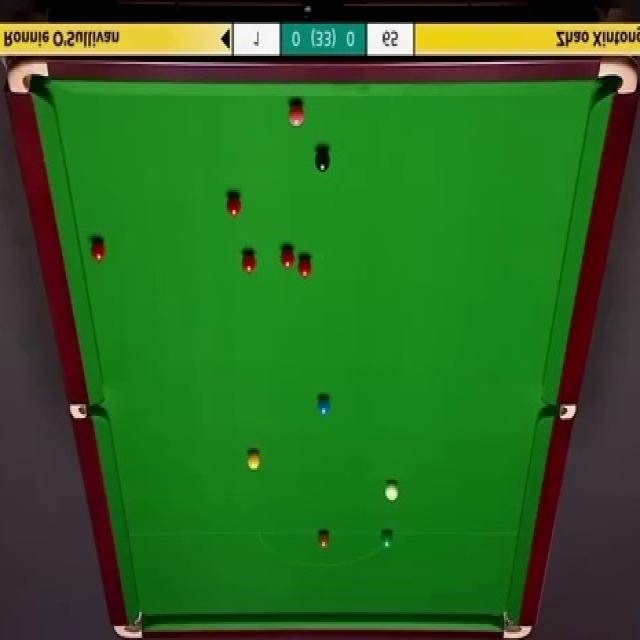black-ball: (313, 151, 328, 173)
blue-ball: (316, 393, 331, 416)
brown-ball: (318, 532, 330, 552)
green-ball: (382, 531, 394, 551)
pink-ball: (288, 102, 306, 128)
red-ball: (279, 246, 296, 272), (90, 238, 106, 264), (228, 193, 241, 218), (242, 252, 258, 272), (298, 258, 312, 278)
white-ball: (386, 482, 398, 502)
yellow-ball: (248, 452, 259, 471)
